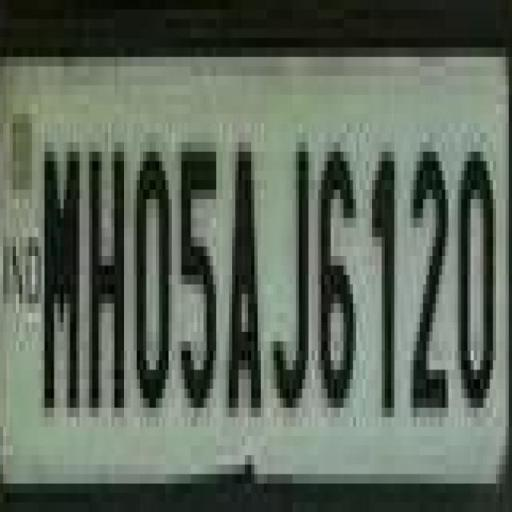number plate: (16, 19, 512, 493)
